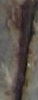Exposed reinforcement: (14, 1, 37, 100)
